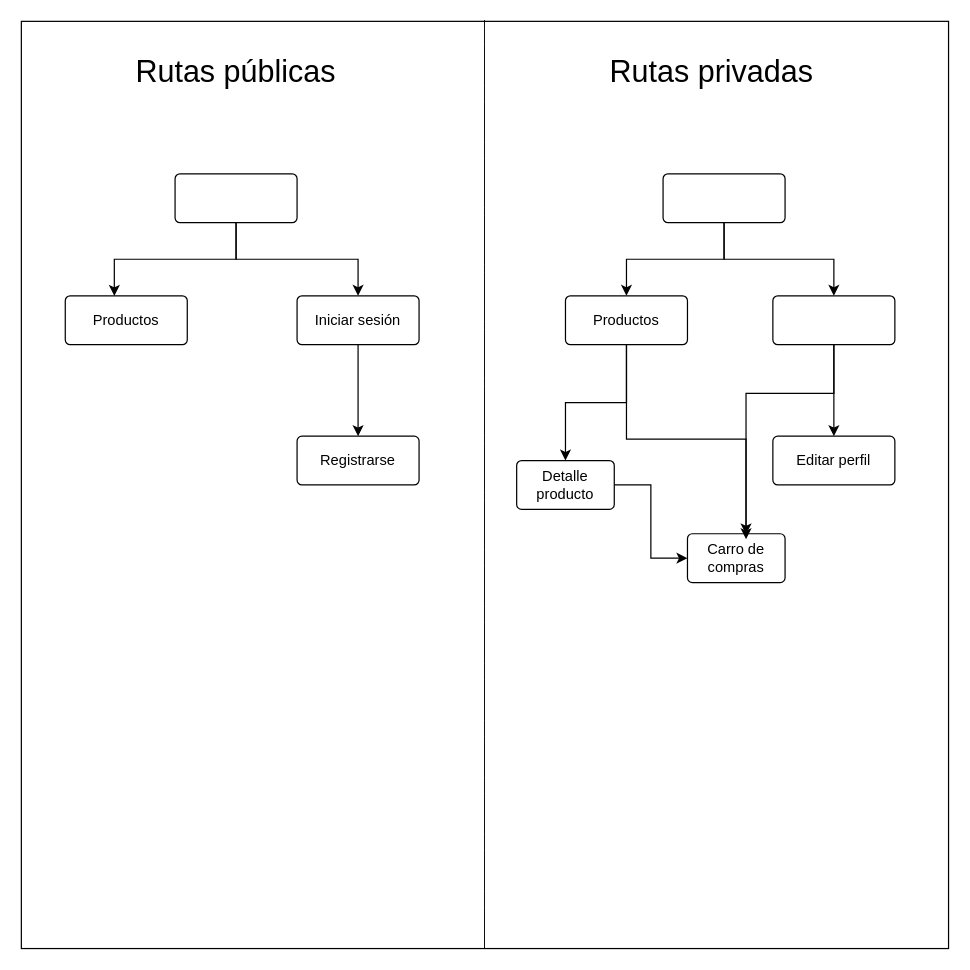
Image size: 970x970. Some labels were removed from this diagram. Here are the shapes that lost their labels. From the top down, the centre of each, then its label:
pixel 235 198: Landing page (Sin loggear)
pixel 723 198: Landing page (loggeado)
pixel 833 320: Perfil
